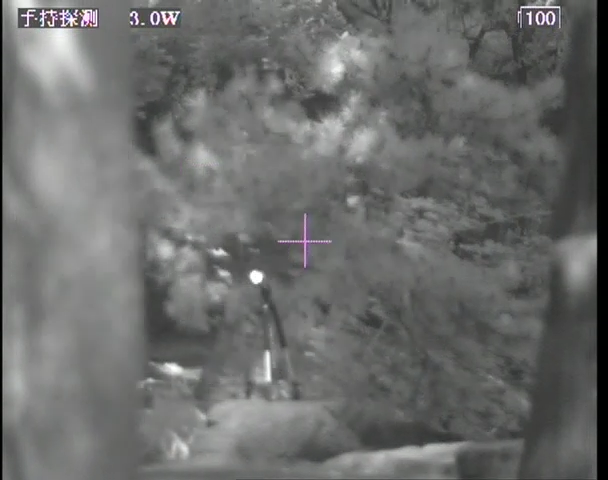my: (247, 268, 265, 287)
